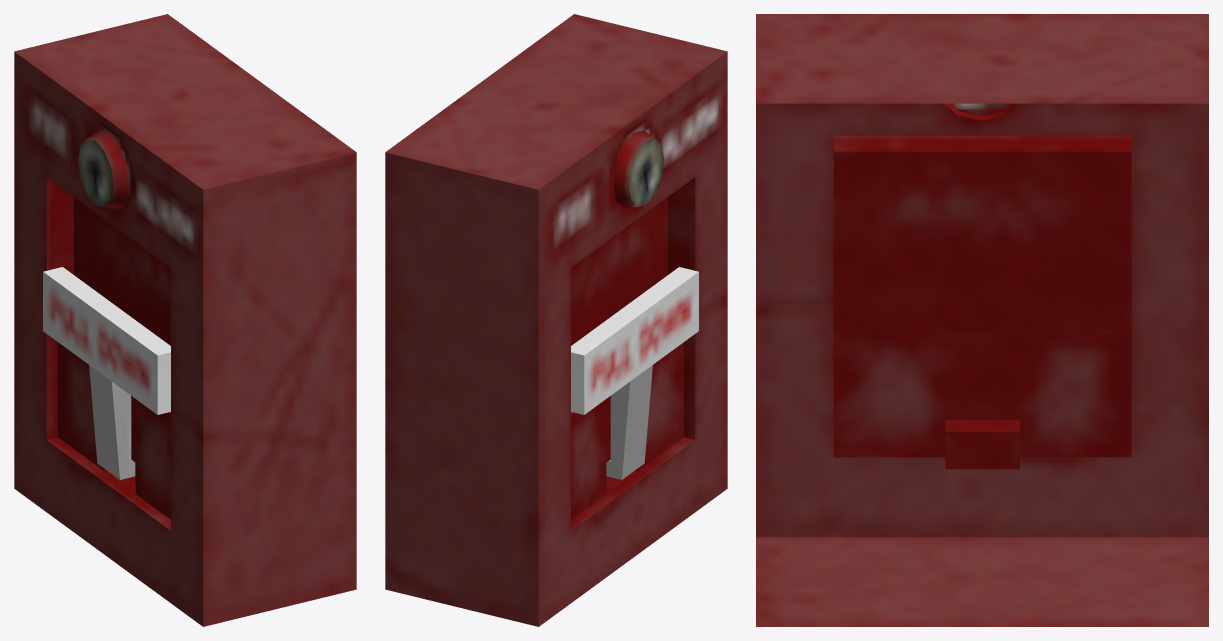
File: Fire_Fighting1.fbx
The picture shows the model from 3 angles, left to right: view 1: azimuth 30°, elevation 25°; view 2: azimuth 150°, elevation 25°; view 3: azimuth 270°, elevation 25°; orthographic projection. The views are drawn at different scales.
Parts seen in each view (by area): view 1: Fire_Fighting; view 2: Fire_Fighting; view 3: Fire_Fighting.
Boxes of the visible parts, box(x1,y1,x2,y2) form: Fire_Fighting: box(14, 14, 356, 626); Fire_Fighting: box(385, 14, 727, 626); Fire_Fighting: box(756, 14, 1208, 626).
Size of the model in its own units: 0.0668 by 0.1674 by 0.1312.
1 material, 1 textured.
